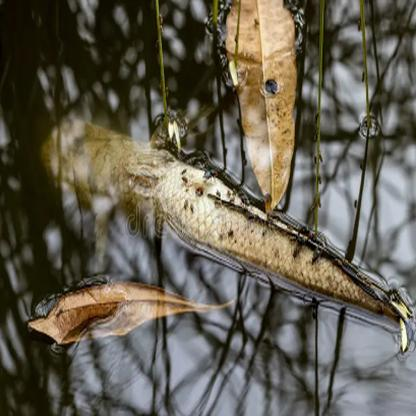deceased fish: (46, 116, 405, 327)
